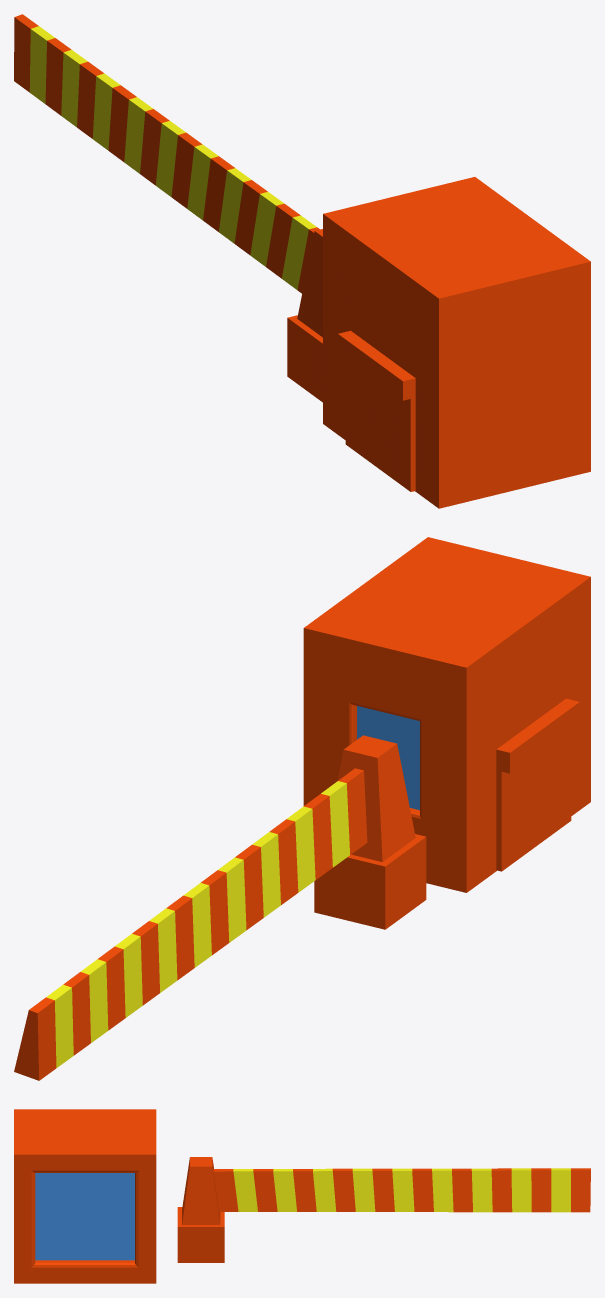
File: Barrier.fbx
3 views of the same model, one above another, from view 1: azimuth 30°, elevation 25°; view 2: azimuth 150°, elevation 25°; view 3: azimuth 270°, elevation 25° (orthographic). The views are drawn at different scales.
Visible parts, largest first — view 1: Barrier; view 2: Barrier; view 3: Barrier.
Part boxes in pixels (x1,y1,x2,y2): Barrier: (14, 14, 590, 508); Barrier: (14, 537, 590, 1080); Barrier: (14, 1109, 590, 1283).
Size of the model in its own units: 103 by 126 by 510.
